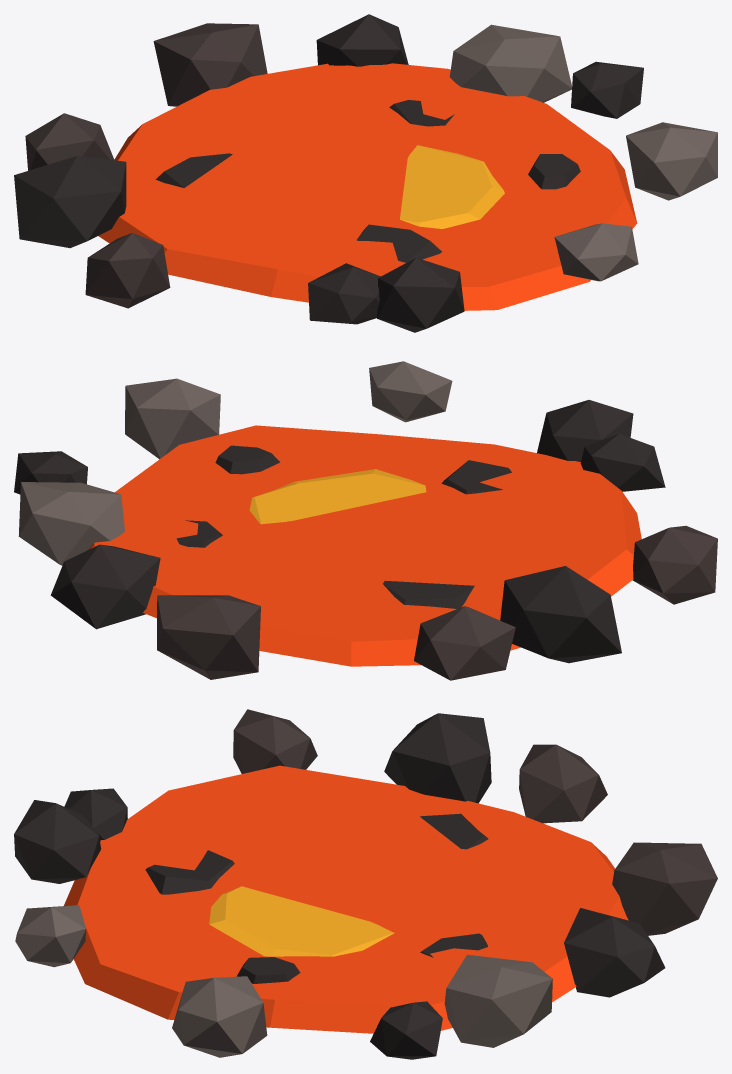
Rendered from LavaPool.fbx.
3 renders of one model, top to bottom at view 1: azimuth 30°, elevation 25°; view 2: azimuth 150°, elevation 25°; view 3: azimuth 270°, elevation 25°, orthographic. The views are drawn at different scales.
Parts seen in each view (by area): view 1: LavaPool_Glow, LavaPool; view 2: LavaPool_Glow, LavaPool; view 3: LavaPool_Glow, LavaPool.
Part boxes in pixels (x1,y1,x2,y2): LavaPool_Glow: [98, 63, 637, 310]; LavaPool: [14, 14, 717, 332]; LavaPool_Glow: [87, 425, 641, 666]; LavaPool: [14, 361, 717, 680]; LavaPool_Glow: [64, 765, 628, 1033]; LavaPool: [14, 709, 717, 1059].
Bounding box in the file's own units: 821 × 121 × 763.
1 material, 1 textured.
